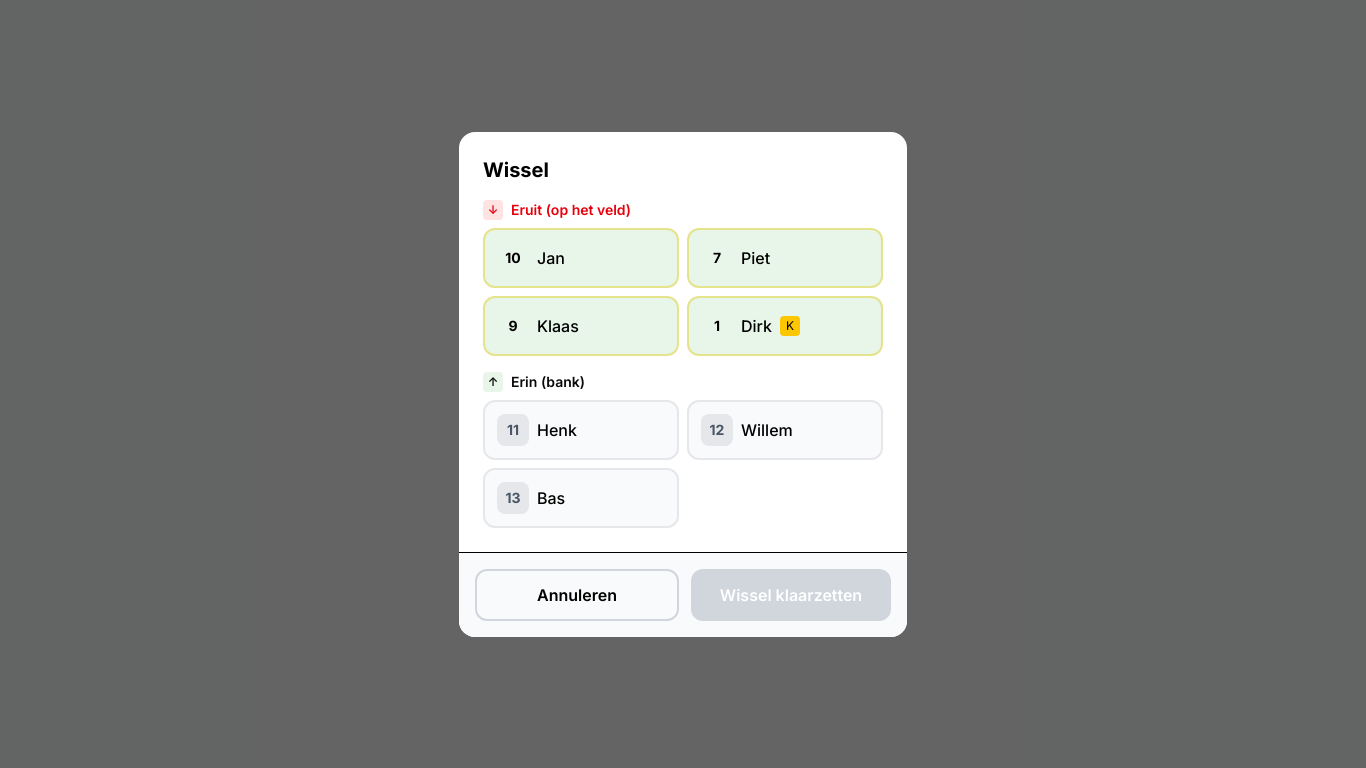
Test: SubstitutionPanel › Substitution Submission › shows follow-up question after successful substitution
Click the text "Jan".
click(551, 258)  # box [537, 246, 565, 270]
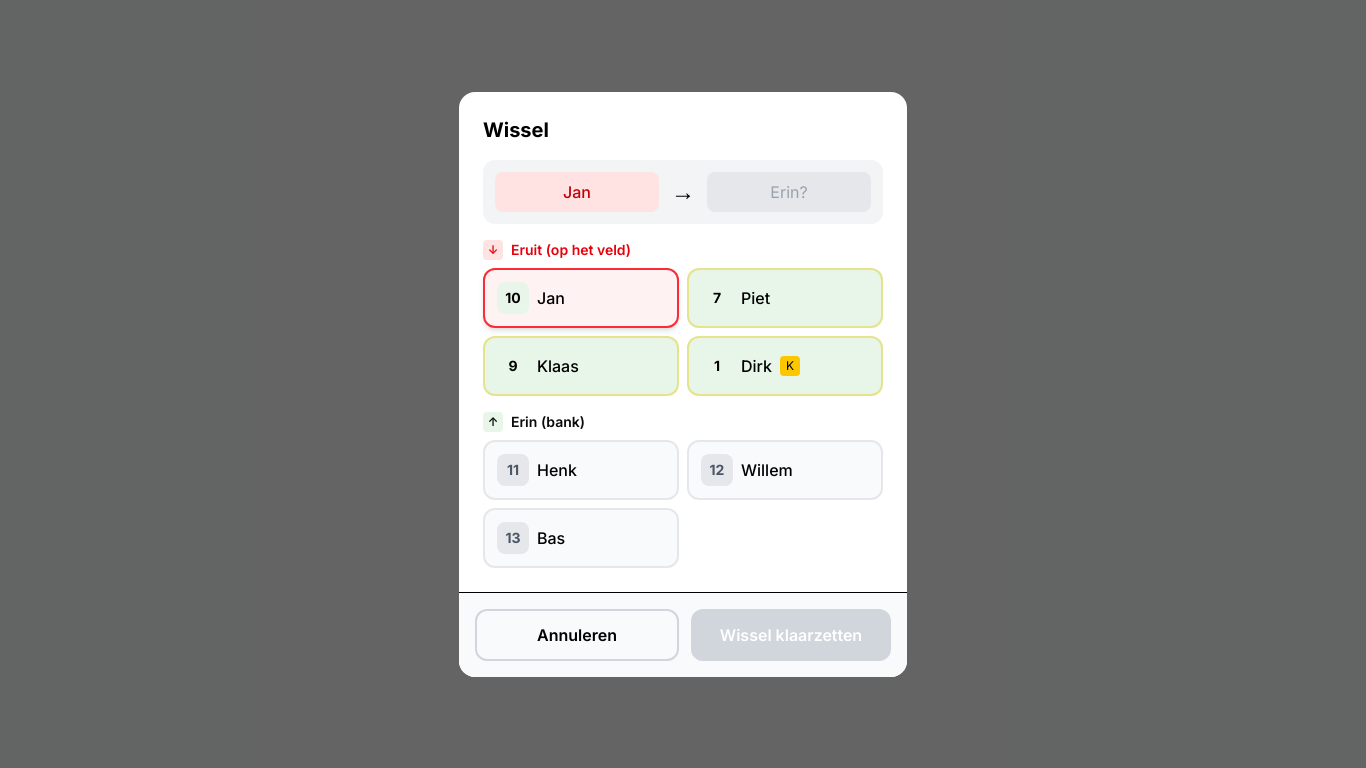
Click the text "Henk".
click(557, 470)  # box [537, 458, 577, 482]
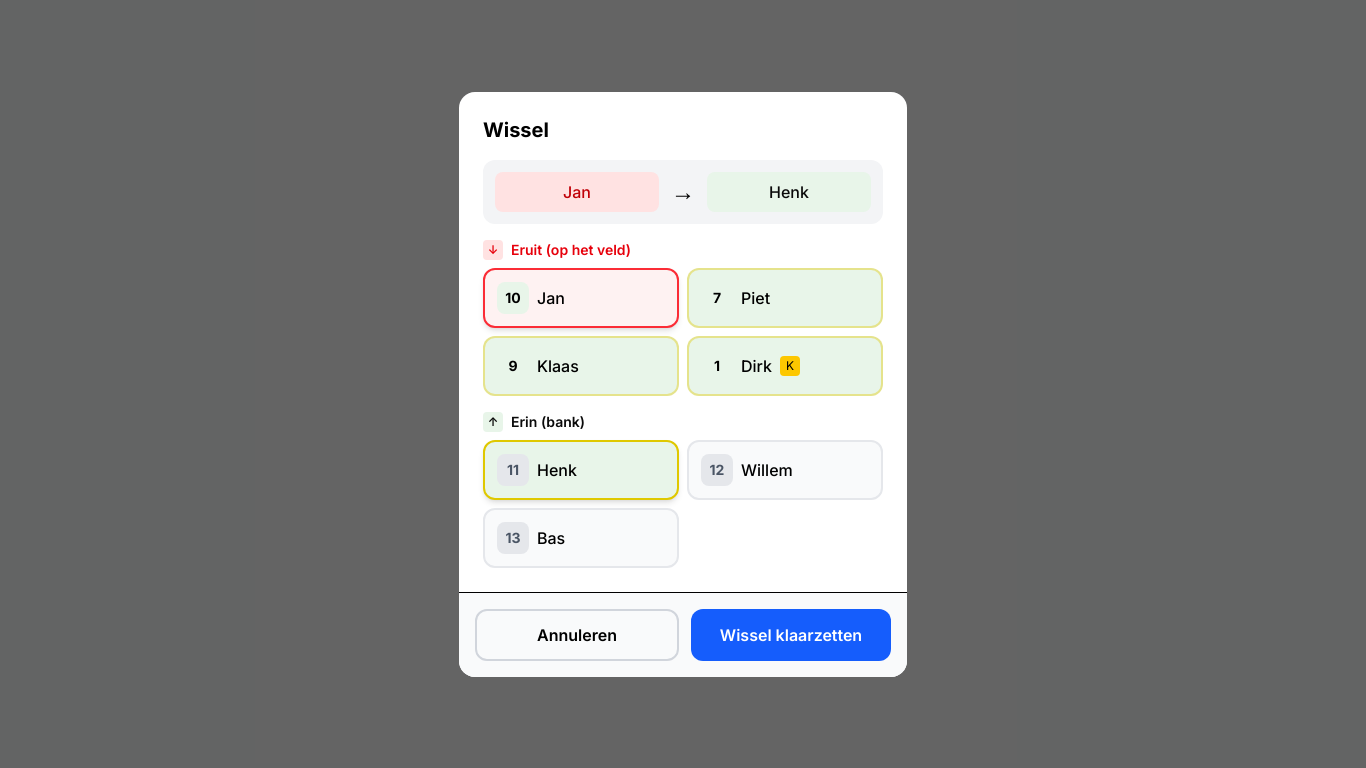
Click the button "Wissel klaarzetten".
click(791, 634)  # box [691, 608, 891, 660]
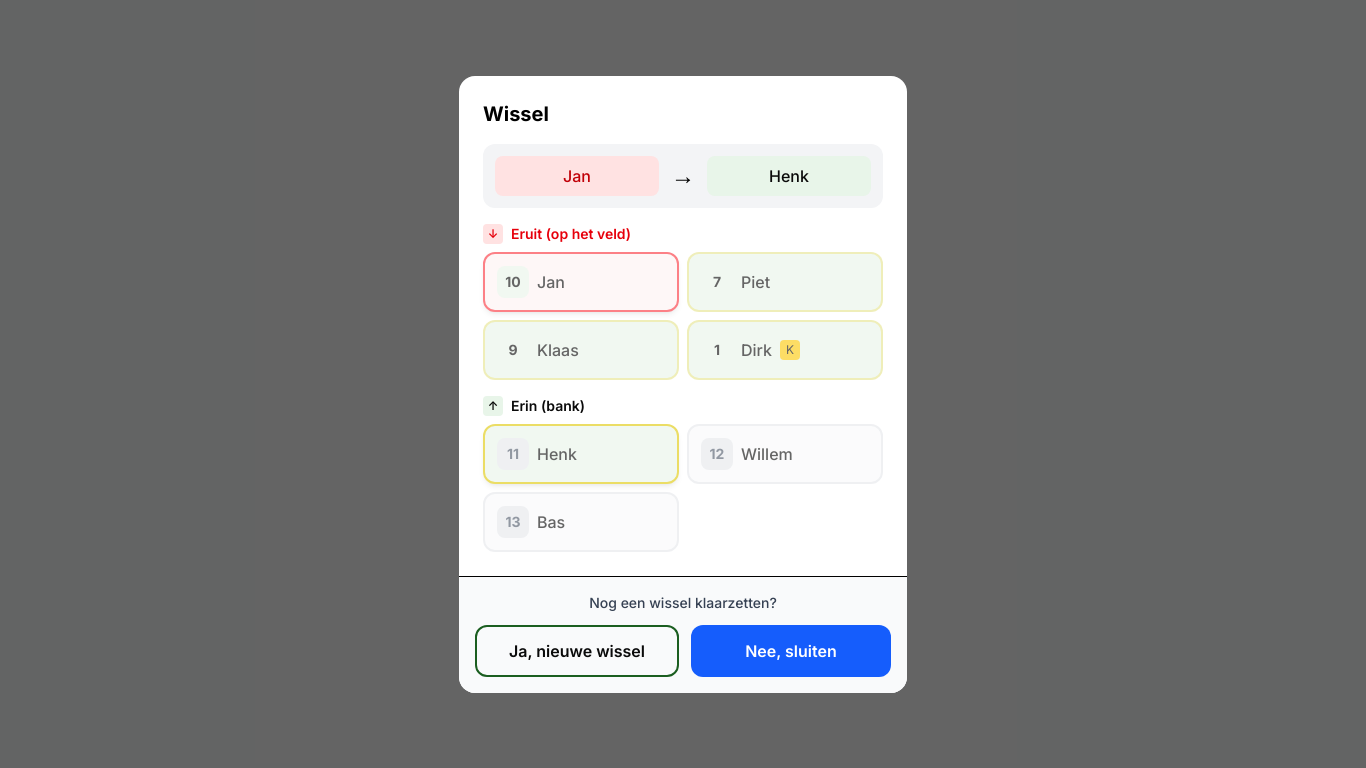
Now the text "Nog een wissel klaarzetten?" is shown, box [589, 594, 777, 610]
